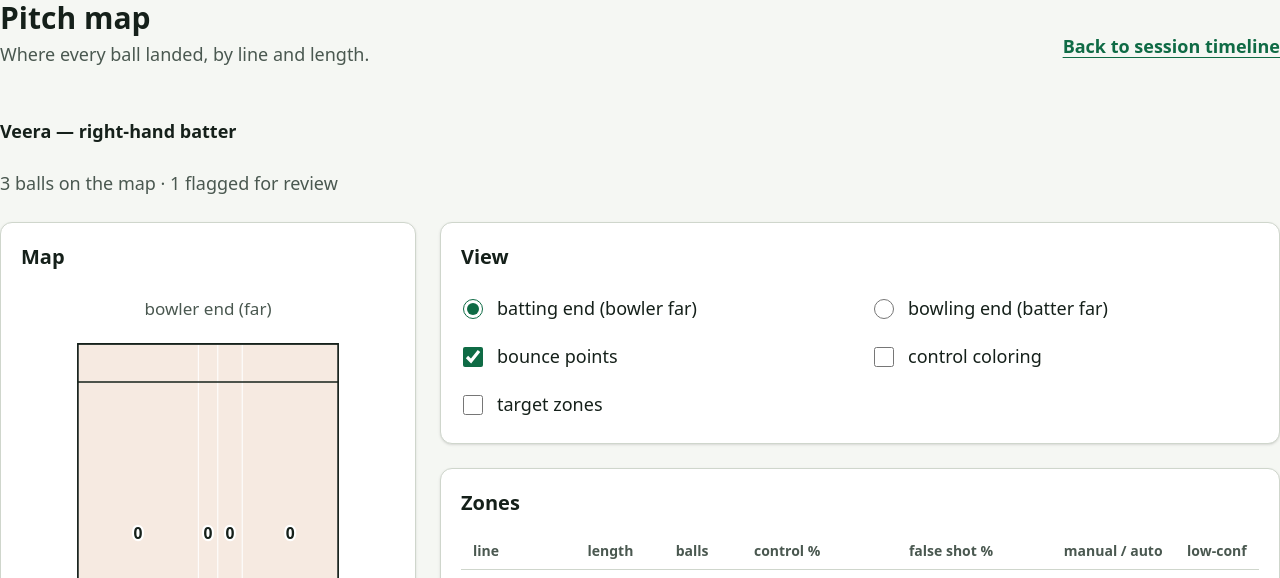
overlay toggles and frames › distinguishes 'no targets declared' from 'unavailable'
Step 1. Click the checkbox labelled "target zones" → coordinates (473, 405), box 461,395 -> 485,415
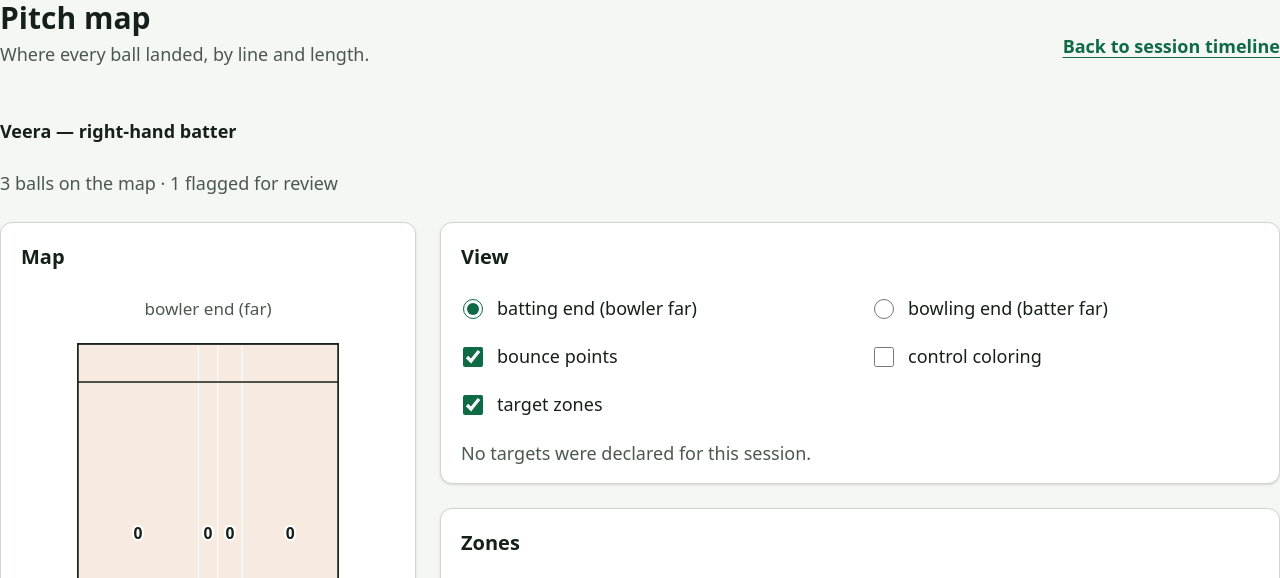
Expected: the text "No targets were declared for this session." is shown, 461,441 -> 811,465
